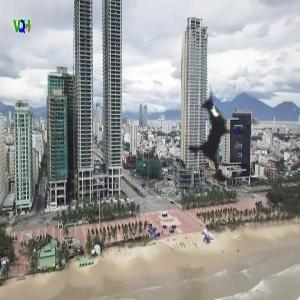drone: (148, 64, 298, 214)
